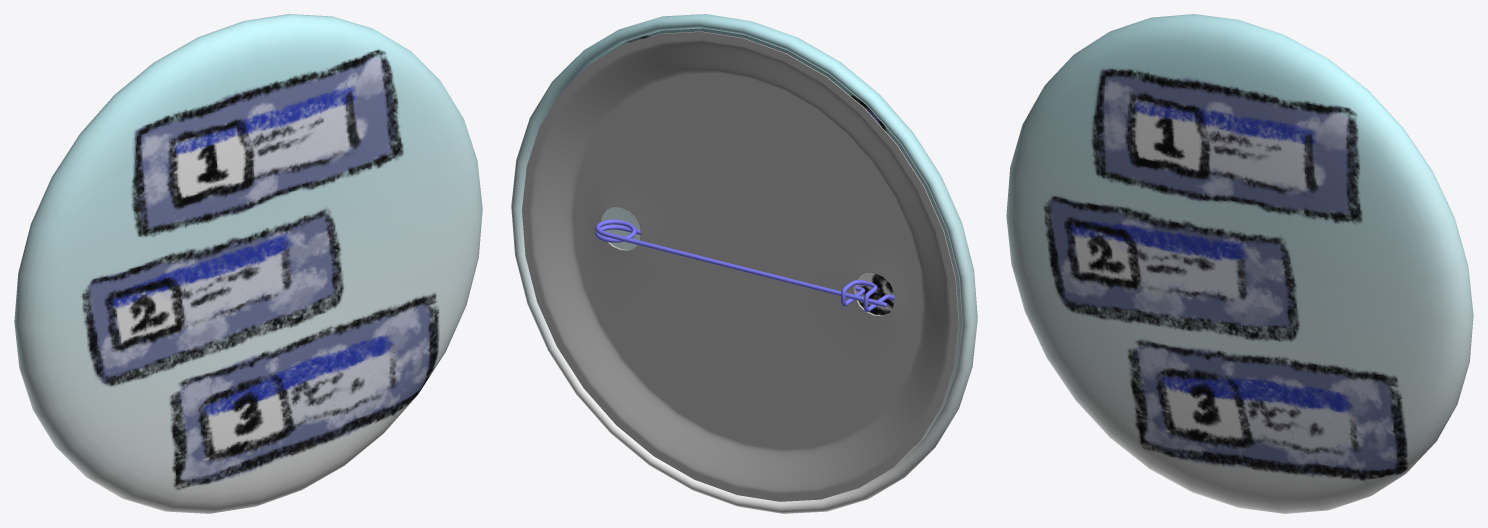
3 views of the same model, side by side, from view 1: azimuth 30°, elevation 25°; view 2: azimuth 150°, elevation 25°; view 3: azimuth 330°, elevation 25° (orthographic).
Parts seen in each view (by area): view 1: Button_Pin; view 2: Button_Pin; view 3: Button_Pin.
Boxes of the visible parts, bbox=[...] form: Button_Pin: bbox=[14, 14, 482, 513]; Button_Pin: bbox=[511, 14, 977, 513]; Button_Pin: bbox=[1006, 14, 1473, 513].
Size of the model in its own units: 0.0629 by 0.0629 by 0.00761.
Materials: 3 (2 with a texture image).
